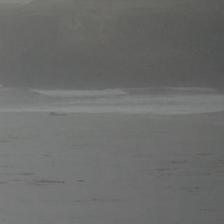surfer: (48, 111, 67, 117)
